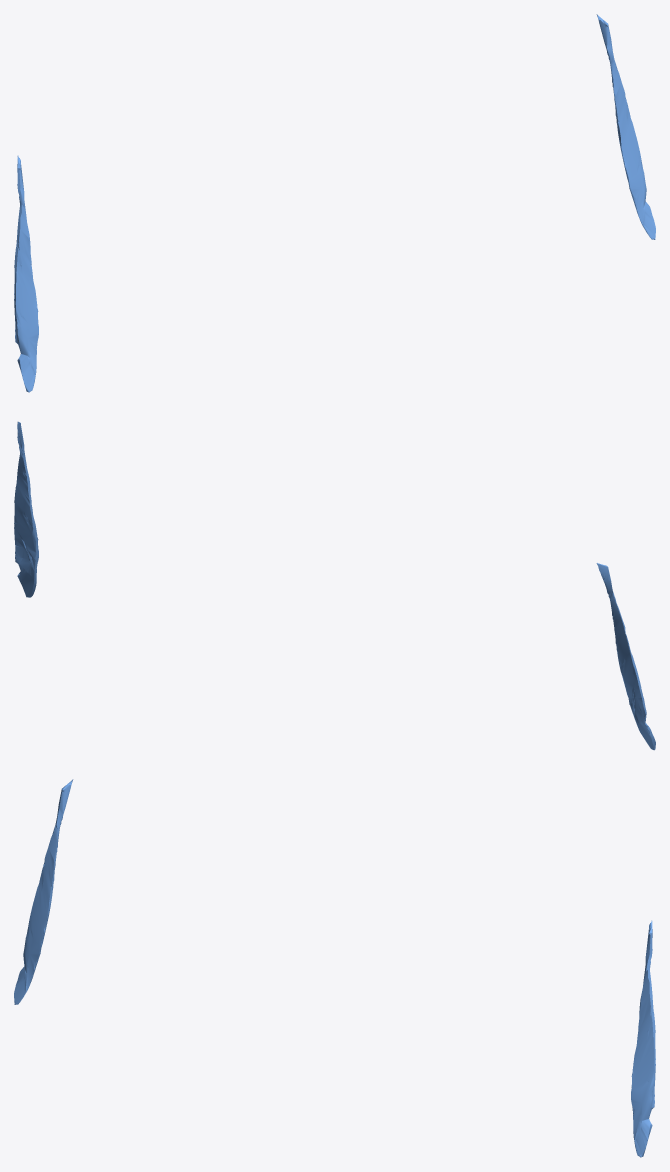
Rendered from supplement-elbow-forearm-connective.glb.
3 views of the same model, one above another, from view 1: azimuth 30°, elevation 25°; view 2: azimuth 150°, elevation 25°; view 3: azimuth 330°, elevation 25° (orthographic).
Parts seen in each view (by area): view 1: supplemental:interosseous-membrane-of-forearm:isa:FJ1476, supplemental:interosseous-membrane-of-forearm:isa:FJ1476M; view 2: supplemental:interosseous-membrane-of-forearm:isa:FJ1476M, supplemental:interosseous-membrane-of-forearm:isa:FJ1476; view 3: supplemental:interosseous-membrane-of-forearm:isa:FJ1476M, supplemental:interosseous-membrane-of-forearm:isa:FJ1476.
Part boxes in pixels (x1=…): supplemental:interosseous-membrane-of-forearm:isa:FJ1476: x1=14, y1=155, x2=38, y2=392; supplemental:interosseous-membrane-of-forearm:isa:FJ1476M: x1=596, y1=14, x2=655, y2=239; supplemental:interosseous-membrane-of-forearm:isa:FJ1476M: x1=14, y1=421, x2=38, y2=597; supplemental:interosseous-membrane-of-forearm:isa:FJ1476: x1=596, y1=563, x2=655, y2=750; supplemental:interosseous-membrane-of-forearm:isa:FJ1476M: x1=631, y1=920, x2=655, y2=1157; supplemental:interosseous-membrane-of-forearm:isa:FJ1476: x1=14, y1=779, x2=73, y2=1004.
Bounding box in the file's own units: 0.5014 × 0.1563 × 0.0481.
